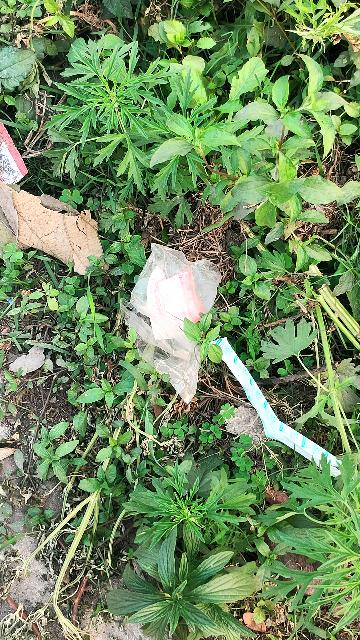polythene: (130, 223, 216, 391)
